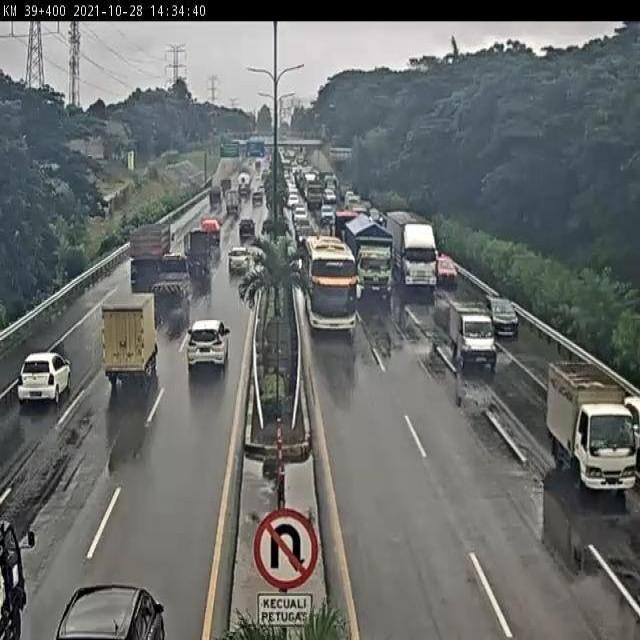big bus: (297, 234, 359, 338)
big truck: (354, 213, 398, 310), (392, 212, 432, 299), (129, 216, 173, 293), (450, 273, 456, 279), (445, 279, 454, 281)
car: (548, 368, 638, 503), (11, 343, 75, 416), (178, 309, 229, 396), (440, 298, 497, 374), (490, 281, 526, 339), (434, 252, 461, 292), (225, 244, 255, 276), (626, 376, 640, 444), (235, 213, 265, 244), (202, 213, 227, 247), (202, 179, 225, 212), (223, 187, 242, 214), (293, 205, 310, 227), (250, 182, 264, 206), (320, 204, 332, 227), (36, 363, 40, 373), (304, 223, 310, 224), (328, 220, 329, 221)
small truck: (90, 304, 154, 413), (157, 252, 194, 312), (186, 230, 220, 278), (336, 207, 347, 237), (162, 258, 168, 262), (560, 453, 562, 463), (155, 227, 167, 228)
